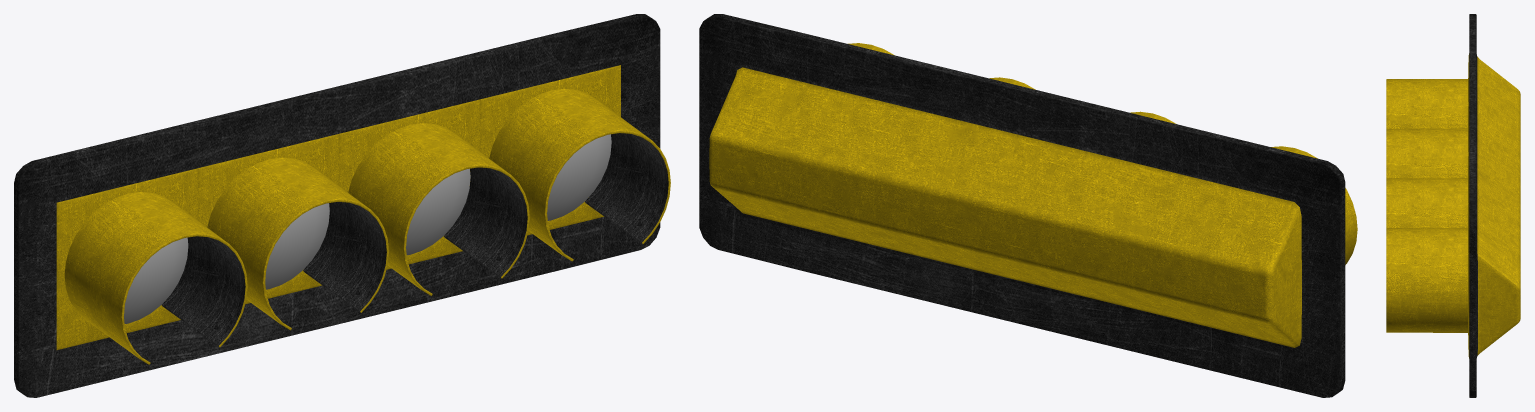
Rendered from TrafficSignalHorizontalHalfConeBlack4.fbx.
3 renders of one model, left to right at view 1: azimuth 30°, elevation 25°; view 2: azimuth 150°, elevation 25°; view 3: azimuth 270°, elevation 25°, orthographic. The views are drawn at different scales.
Parts seen in each view (by area): view 1: Casing, SignalLight1, SignalLight3, SignalLight2, SignalLight0; view 2: Casing; view 3: Casing.
Part boxes in pixels (bbox=[...]): Casing: bbox=[14, 14, 670, 397]; SignalLight1: bbox=[265, 203, 329, 289]; SignalLight3: bbox=[547, 134, 611, 220]; SignalLight2: bbox=[406, 168, 470, 255]; SignalLight0: bbox=[124, 237, 188, 323]; Casing: bbox=[699, 14, 1357, 397]; Casing: bbox=[1386, 14, 1520, 397].
Size of the model in its own units: 1.88 by 0.6568 by 0.4739.
